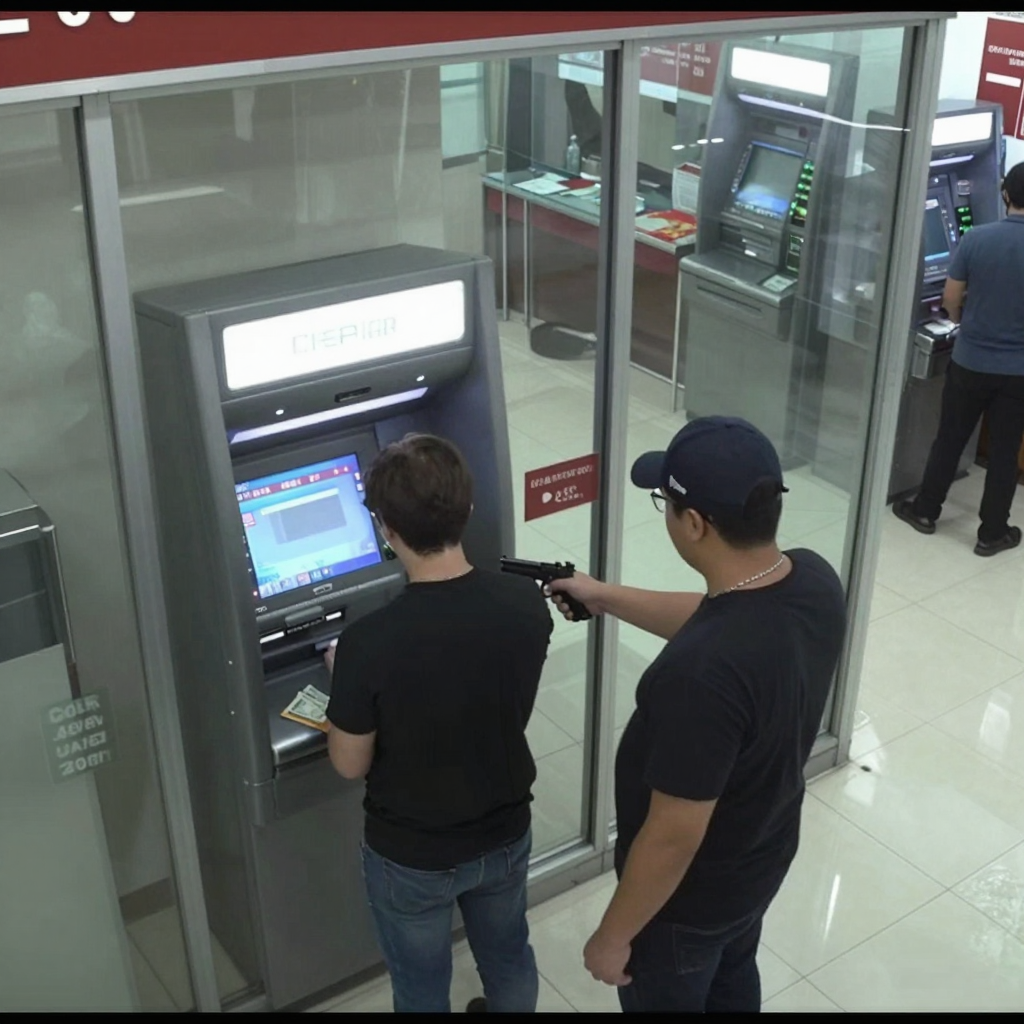Robbery: (546, 414, 848, 1014), (322, 432, 554, 1013)
Shooting: (500, 557, 592, 622)
